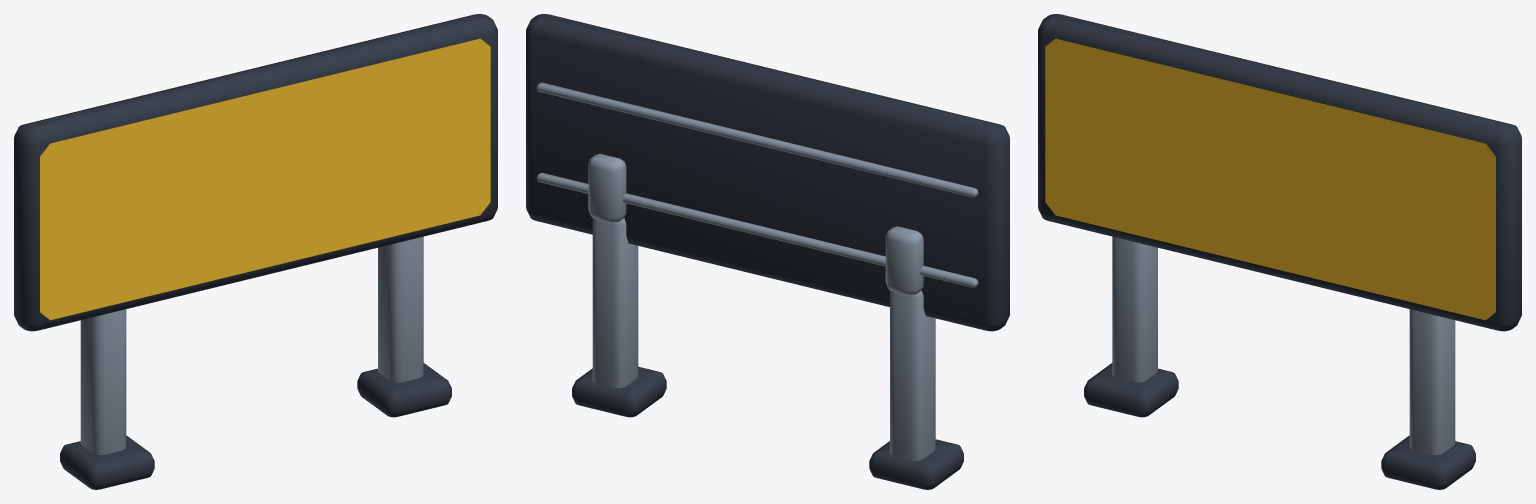
The model's file is deco-cartel.glb.
3 views of the same model, side by side, from view 1: azimuth 30°, elevation 25°; view 2: azimuth 150°, elevation 25°; view 3: azimuth 330°, elevation 25° (orthographic).
Parts seen in each view (by area): view 1: deco-cartel; view 2: deco-cartel; view 3: deco-cartel.
Part boxes in pixels (left/top/right/bottom): deco-cartel: left=14, top=14, right=497, bottom=489; deco-cartel: left=526, top=14, right=1009, bottom=489; deco-cartel: left=1038, top=14, right=1521, bottom=489.
Bounding box in the file's own units: 8.45 × 6.22 × 1.12.
